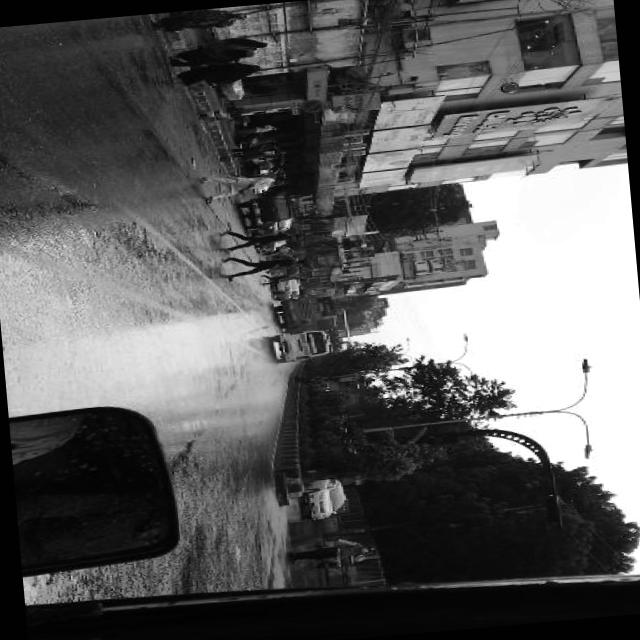bus: (274, 294, 337, 331)
car: (302, 478, 346, 520), (272, 280, 298, 299)
motorcycle: (314, 554, 356, 570)
truck: (240, 194, 294, 234), (272, 328, 332, 362)
